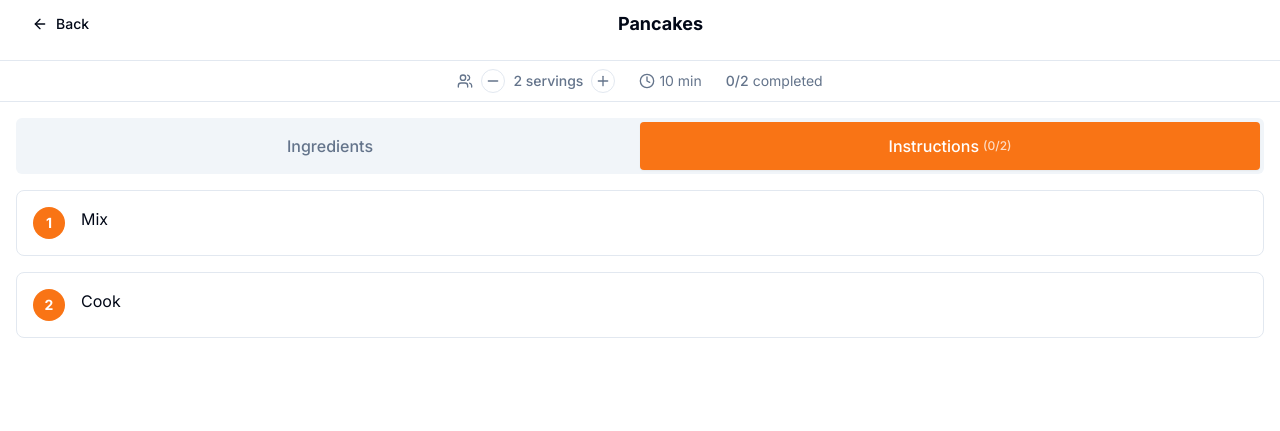
it: RecipeViewer Page › toggles step completion
Click the button labelled "1 Mix": (49, 223) x1=16 y1=190 x2=1264 y2=256
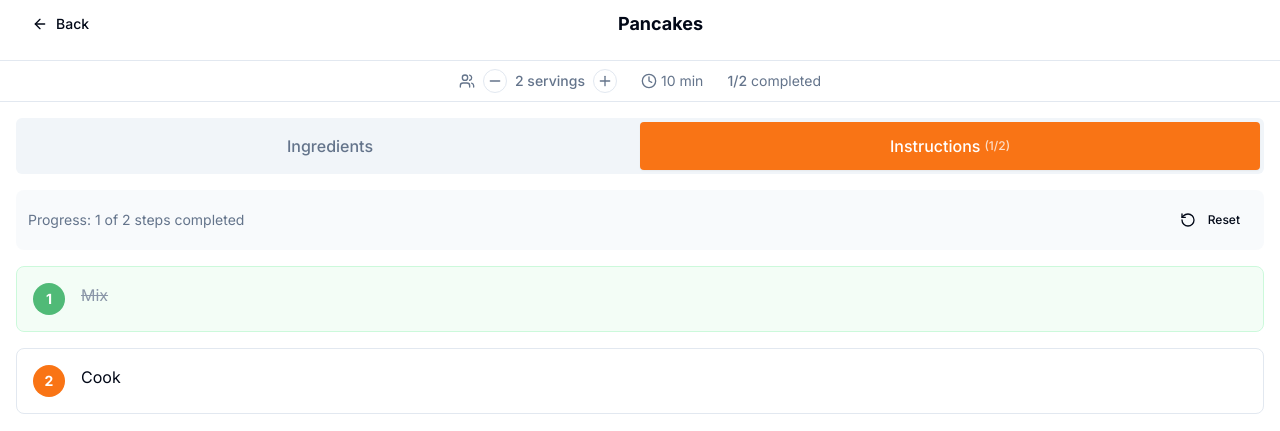
Expected: the text "1/2" is shown, x1=727 y1=71 x2=747 y2=91
